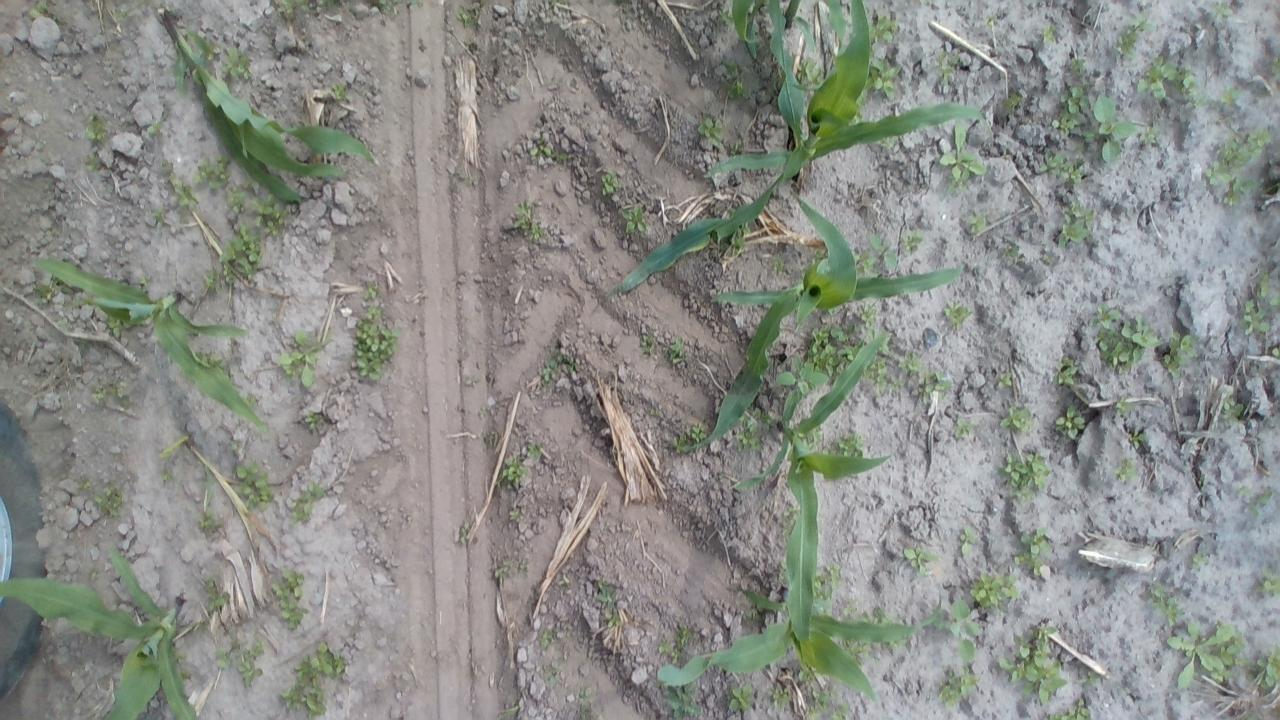Maize: (594, 0, 994, 314), (676, 194, 963, 448), (734, 331, 890, 648), (155, 6, 373, 204), (32, 258, 263, 426), (0, 546, 200, 720), (658, 588, 942, 701), (732, 0, 848, 59), (157, 434, 190, 460)
Weeds: (996, 646, 1068, 704), (1166, 620, 1223, 686), (1094, 94, 1136, 164), (354, 308, 395, 378), (1095, 324, 1153, 370), (942, 122, 988, 180), (274, 334, 320, 386), (1220, 127, 1272, 168), (270, 570, 304, 630), (1003, 452, 1050, 492), (1014, 528, 1050, 580), (949, 600, 978, 661), (1136, 56, 1178, 96), (809, 324, 846, 369), (970, 572, 1016, 606), (223, 230, 258, 274), (236, 464, 272, 506), (777, 362, 827, 392), (192, 157, 230, 193), (869, 58, 900, 100), (939, 674, 977, 708), (250, 195, 282, 234), (1158, 334, 1192, 370), (861, 236, 899, 267), (294, 482, 322, 522), (1053, 407, 1085, 440), (666, 686, 698, 718), (1244, 299, 1270, 336), (1047, 156, 1081, 184), (1256, 647, 1280, 686), (1120, 20, 1144, 58), (518, 201, 542, 239), (312, 645, 344, 673), (221, 48, 250, 76), (904, 548, 935, 574), (236, 660, 264, 688), (870, 16, 896, 46), (95, 486, 122, 514), (1062, 86, 1088, 115), (725, 60, 745, 97), (944, 302, 970, 330), (1220, 638, 1245, 667), (1046, 704, 1090, 720), (1224, 178, 1250, 204), (281, 684, 306, 711), (222, 180, 246, 208), (85, 116, 110, 142), (175, 186, 198, 214), (624, 206, 647, 234), (292, 657, 318, 681), (302, 692, 326, 718), (1062, 216, 1086, 242), (800, 56, 822, 84), (1000, 407, 1026, 430), (728, 686, 751, 712), (206, 584, 225, 613), (1183, 72, 1200, 104), (1058, 357, 1076, 387), (814, 575, 836, 599), (936, 52, 959, 74), (1096, 306, 1118, 329), (1222, 397, 1244, 420), (1116, 460, 1140, 481), (1254, 574, 1280, 592), (698, 117, 722, 136), (1052, 115, 1076, 134), (839, 436, 864, 454), (955, 413, 973, 438), (766, 686, 789, 705), (1070, 201, 1094, 219), (601, 170, 618, 194), (741, 424, 760, 445), (960, 528, 974, 556), (90, 386, 114, 402), (215, 648, 234, 668), (36, 282, 58, 299), (1004, 93, 1023, 112), (1035, 622, 1054, 641), (200, 271, 220, 289), (902, 354, 922, 372), (1160, 602, 1180, 620), (1126, 427, 1142, 448), (861, 307, 877, 328), (966, 216, 988, 231), (1213, 1, 1232, 18), (674, 622, 688, 644), (304, 415, 322, 432), (904, 236, 922, 253), (1222, 87, 1238, 106), (196, 512, 212, 531), (541, 362, 556, 382), (84, 152, 100, 170), (656, 638, 674, 654), (870, 365, 886, 382), (1206, 166, 1220, 185), (690, 422, 704, 441), (924, 380, 944, 392), (529, 146, 552, 156), (998, 372, 1012, 388), (332, 82, 346, 98), (109, 320, 122, 337), (817, 691, 830, 708), (670, 342, 680, 362), (1044, 26, 1055, 44), (1116, 398, 1130, 412), (1148, 587, 1163, 600), (153, 209, 166, 224), (834, 704, 846, 719), (78, 476, 90, 491), (1144, 127, 1156, 142), (640, 338, 651, 354), (136, 275, 152, 285), (1082, 130, 1094, 143), (1269, 57, 1279, 72), (364, 288, 376, 300), (824, 564, 840, 573), (1070, 59, 1083, 70), (721, 11, 732, 24), (986, 16, 999, 26), (804, 709, 818, 718), (508, 509, 519, 520), (760, 411, 770, 423), (553, 152, 567, 160), (160, 472, 172, 480)
